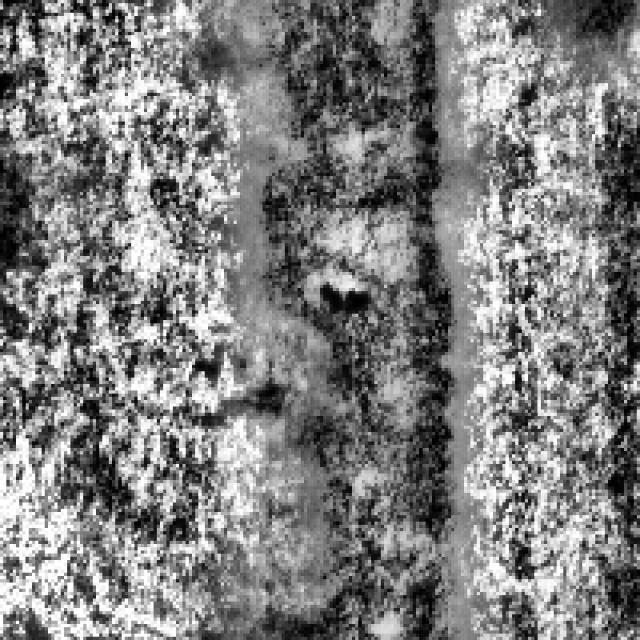Scratches: (243, 0, 464, 634), (547, 0, 636, 54)
